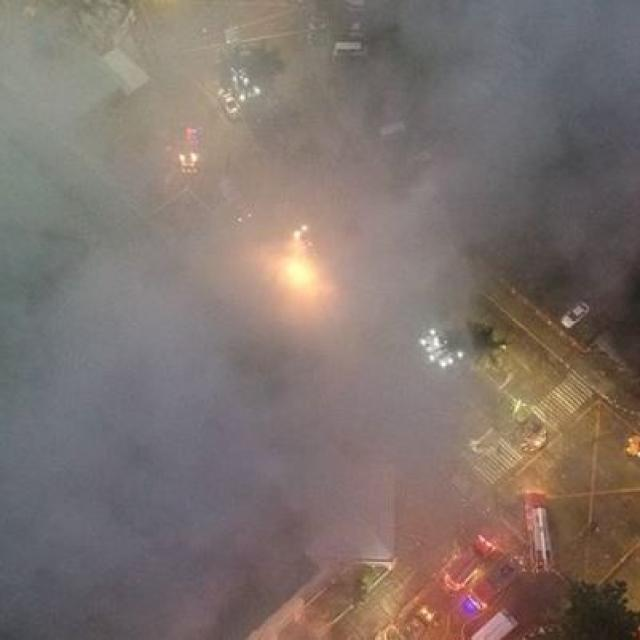Smoke: (32, 24, 625, 608)
